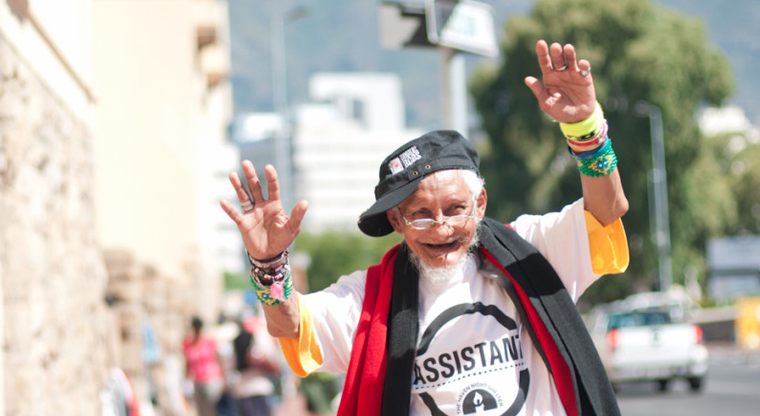Age_above_50: (385, 156, 492, 268)
E_White: (385, 156, 492, 268)
Emotion_Happy: (385, 156, 492, 268)
G_Male: (385, 156, 492, 268)
